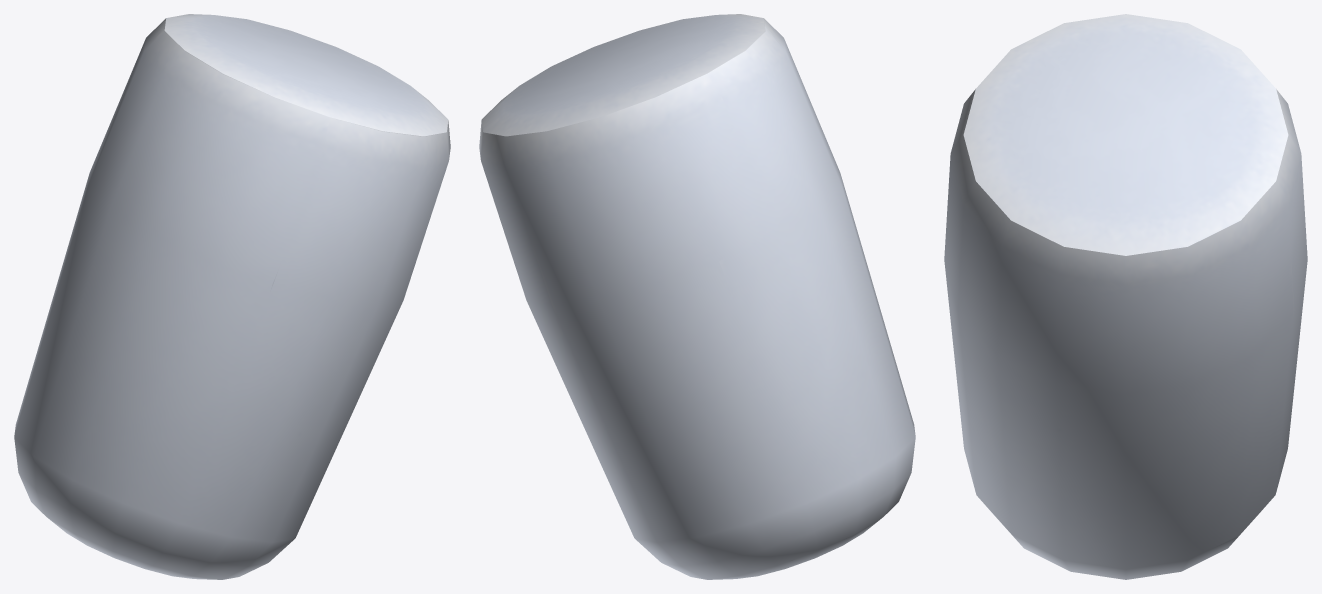
The model's file is upper_arm_l.glb.
3 renders of one model, left to right at view 1: azimuth 30°, elevation 25°; view 2: azimuth 150°, elevation 25°; view 3: azimuth 270°, elevation 25°, orthographic. The views are drawn at different scales.
Visible parts, largest first — view 1: upper_arm_l; view 2: upper_arm_l; view 3: upper_arm_l.
Part boxes in pixels (<box>): upper_arm_l: <box>14,14,450,579</box>; upper_arm_l: <box>479,14,915,579</box>; upper_arm_l: <box>944,14,1307,579</box>.
Bounding box in the file's own units: 0.1225 × 0.152 × 0.092.
1 material, 1 textured.
